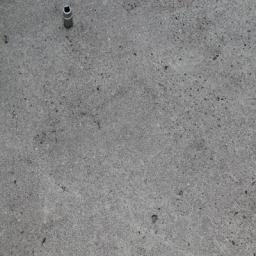FOD: (59, 1, 78, 35)
